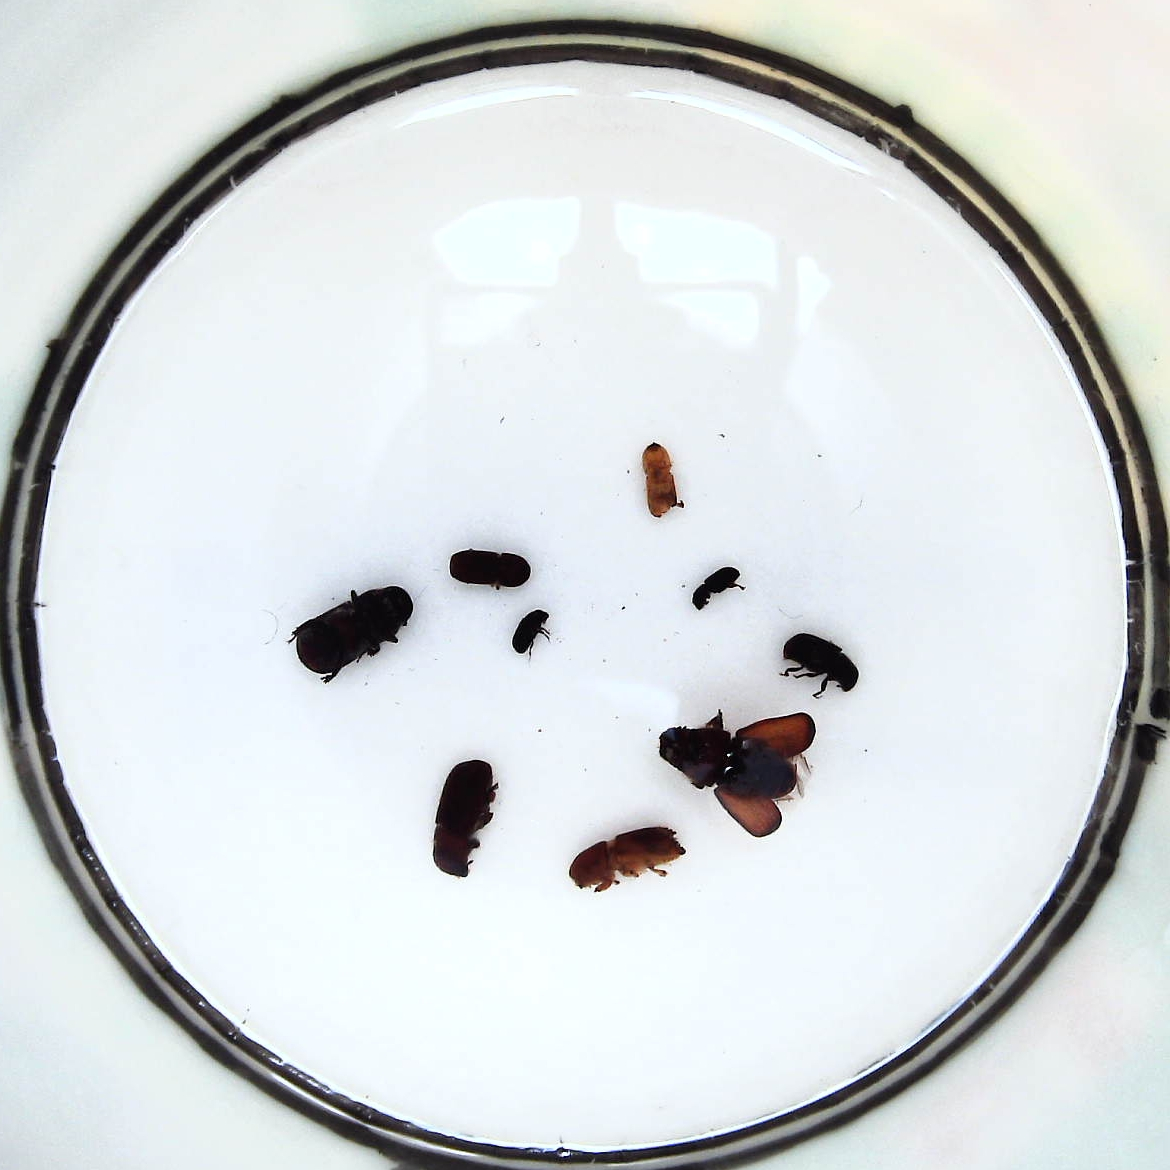Leconte: (658, 709, 817, 838), (294, 585, 412, 675), (432, 759, 496, 877)
acuminatus: (692, 566, 741, 610), (512, 607, 551, 654)
armandi: (783, 631, 859, 693), (449, 549, 530, 587)
coleoptera: (642, 441, 676, 519)
linnaeus: (569, 827, 685, 892)
